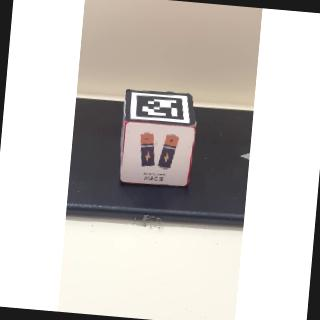Used_Battery: (120, 121, 196, 189)
